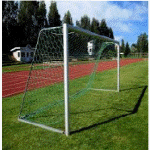goals: (15, 22, 121, 137)
